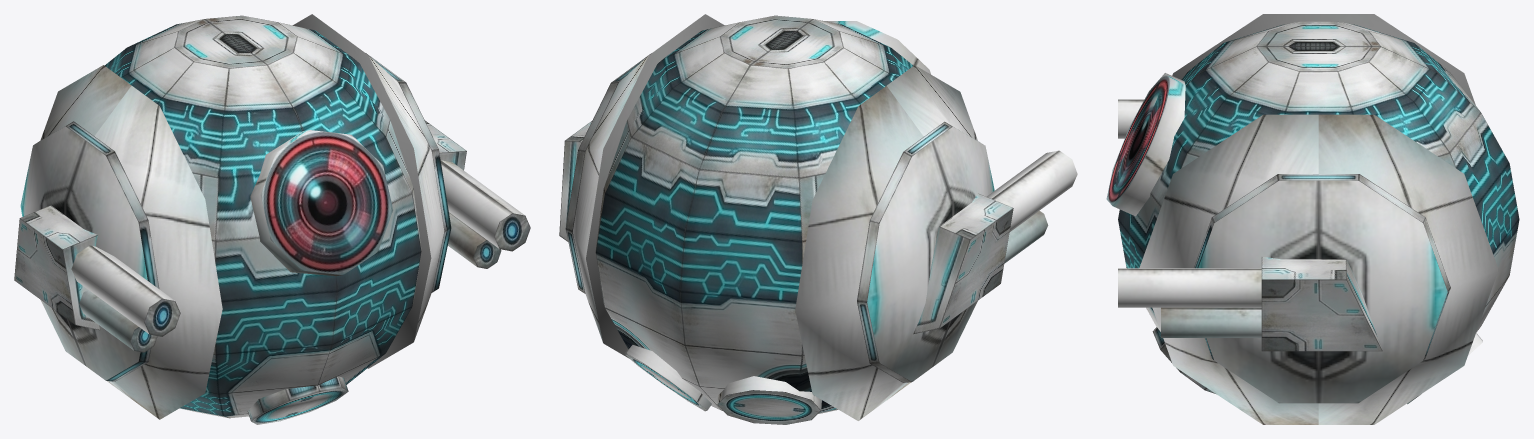
The model's file is pod_enemy.glb.
The picture shows the model from 3 angles, left to right: view 1: azimuth 30°, elevation 25°; view 2: azimuth 150°, elevation 25°; view 3: azimuth 270°, elevation 25°; orthographic projection.
Parts seen in each view (by area): view 1: PodEnemy; view 2: PodEnemy; view 3: PodEnemy.
Boxes of the visible parts, x1,y1,x2,y2 form: PodEnemy: (14, 14, 530, 424); PodEnemy: (559, 14, 1077, 424); PodEnemy: (1106, 14, 1519, 424).
Size of the model in its own units: 1.2 by 0.9958 by 1.08.
1 material, 1 textured.
